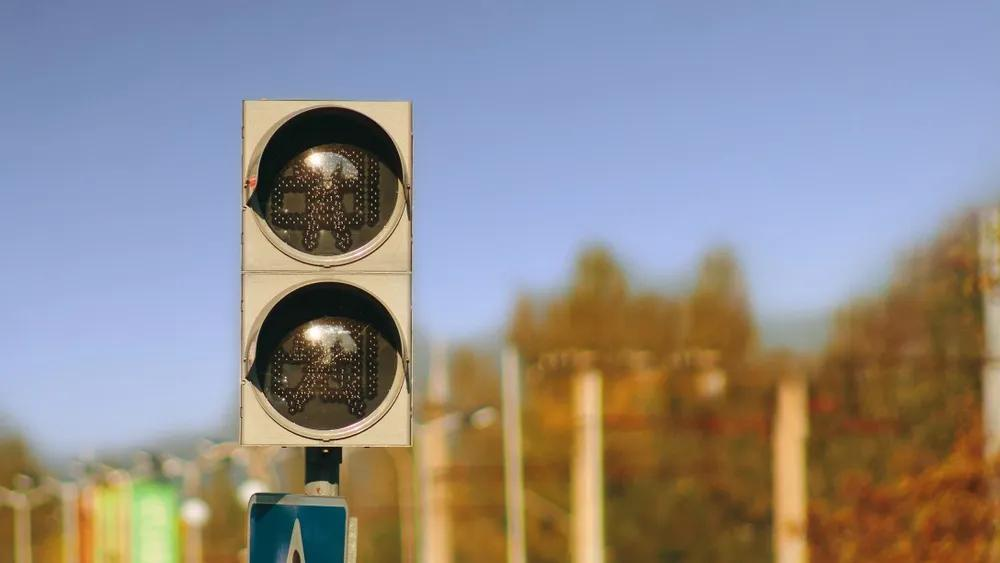off traffic light: (240, 100, 412, 495)
